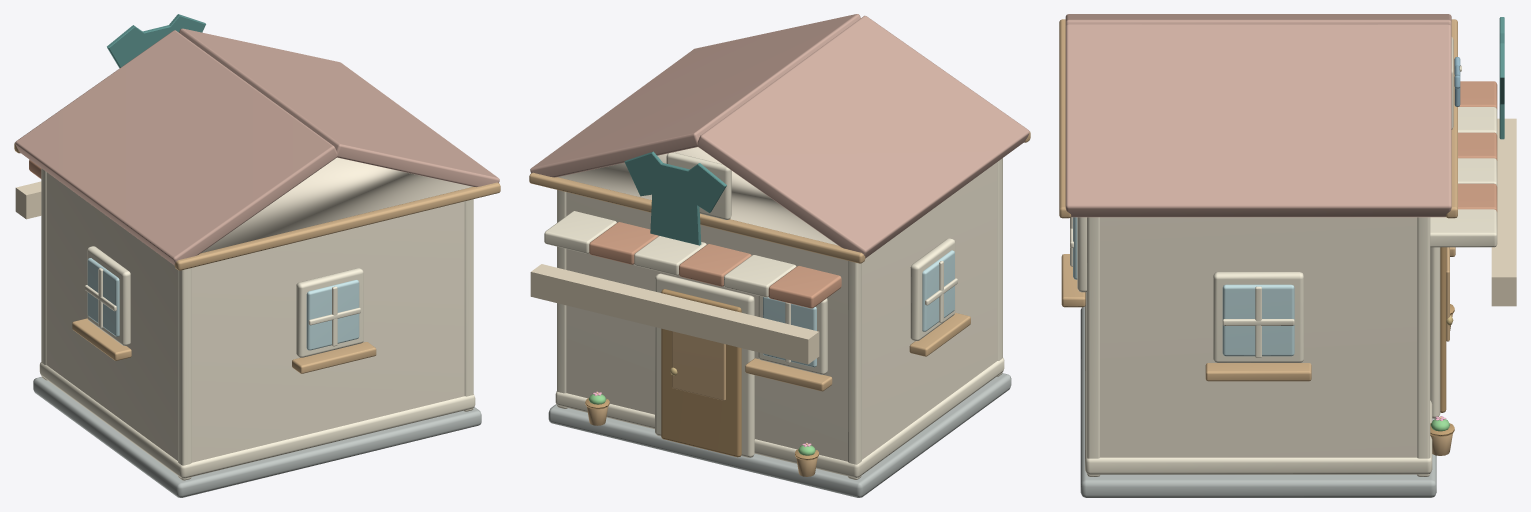
Rendered from avatar.glb.
3 views of the same model, side by side, from view 1: azimuth 30°, elevation 25°; view 2: azimuth 150°, elevation 25°; view 3: azimuth 270°, elevation 25° (orthographic). The views are drawn at different scales.
Size of the model in its own units: 3.62 by 3.39 by 3.62.
